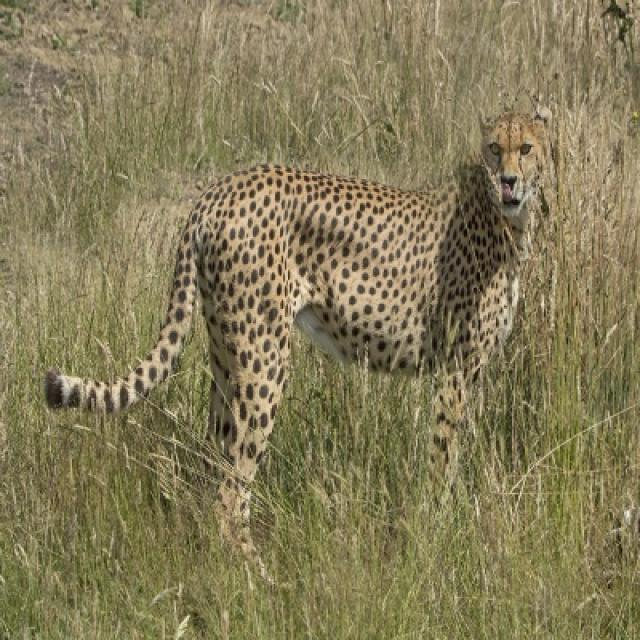Cheetah: (43, 115, 552, 485)
